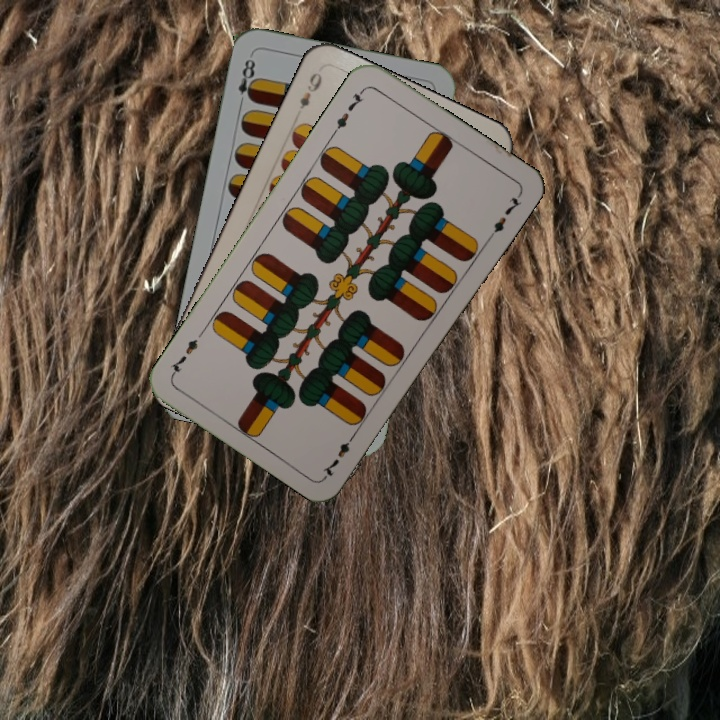E7: (318, 428, 359, 480), (329, 84, 368, 137)
E8: (234, 54, 260, 110)
E9: (295, 68, 325, 112)
